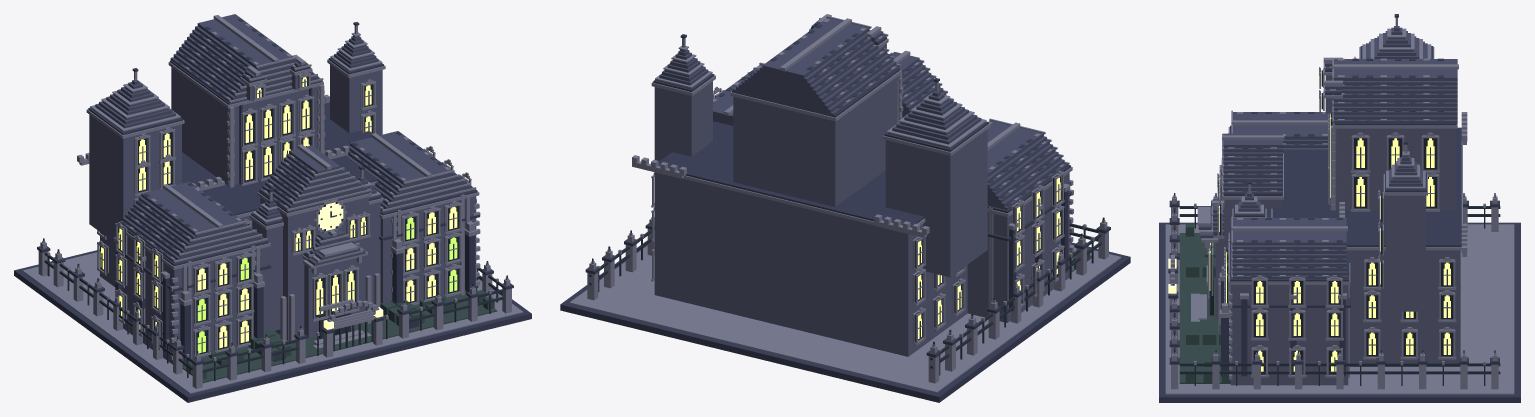
File: arkham_asylum_8bit.glb
3 renders of one model, left to right at view 1: azimuth 30°, elevation 25°; view 2: azimuth 150°, elevation 25°; view 3: azimuth 270°, elevation 25°, orthographic. The views are drawn at different scales.
Parts seen in each view (by area): view 1: SM_Arkham_Asylum_8bit; view 2: SM_Arkham_Asylum_8bit; view 3: SM_Arkham_Asylum_8bit.
Boxes of the visible parts, x1=… form: SM_Arkham_Asylum_8bit: x1=14, y1=14, x2=531, y2=402; SM_Arkham_Asylum_8bit: x1=560, y1=14, x2=1130, y2=402; SM_Arkham_Asylum_8bit: x1=1159, y1=14, x2=1520, y2=402.
Bounding box in the file's own units: 16 × 10.68 × 14.
